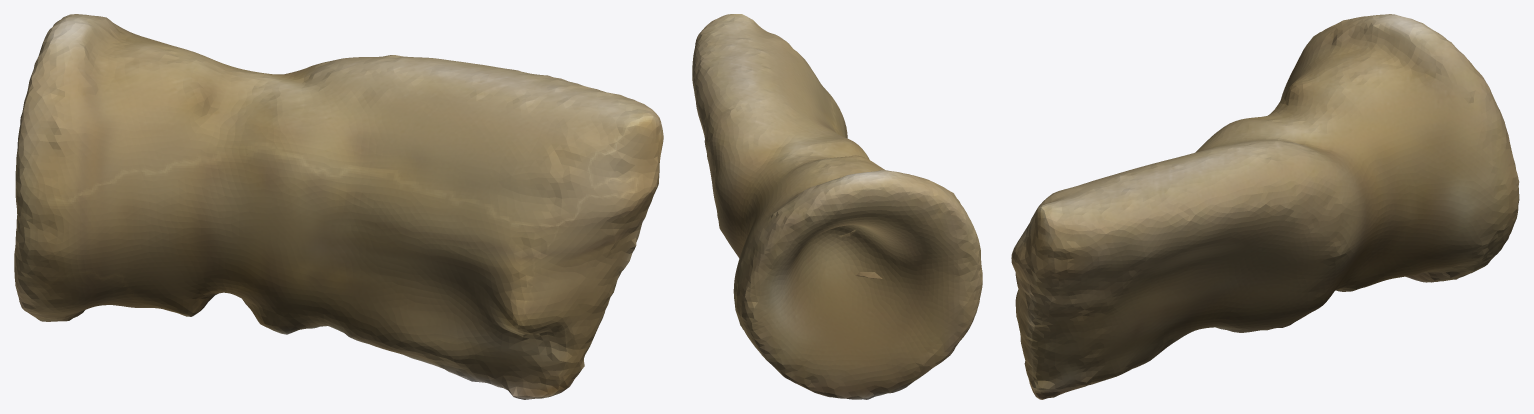
File: IMG_SEG_36.glb
The picture shows the model from 3 angles, left to right: view 1: azimuth 30°, elevation 25°; view 2: azimuth 150°, elevation 25°; view 3: azimuth 270°, elevation 25°; orthographic projection. The views are drawn at different scales.
Size of the model in its own units: 0.7533 by 0.4122 by 0.7468.
Materials: 1 (1 with a texture image).
